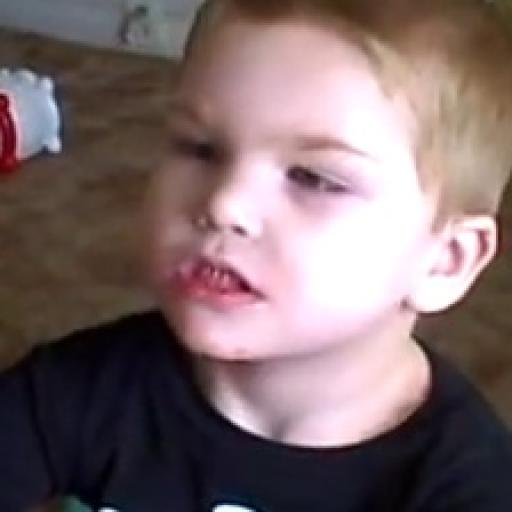Autism: (107, 0, 510, 423)
